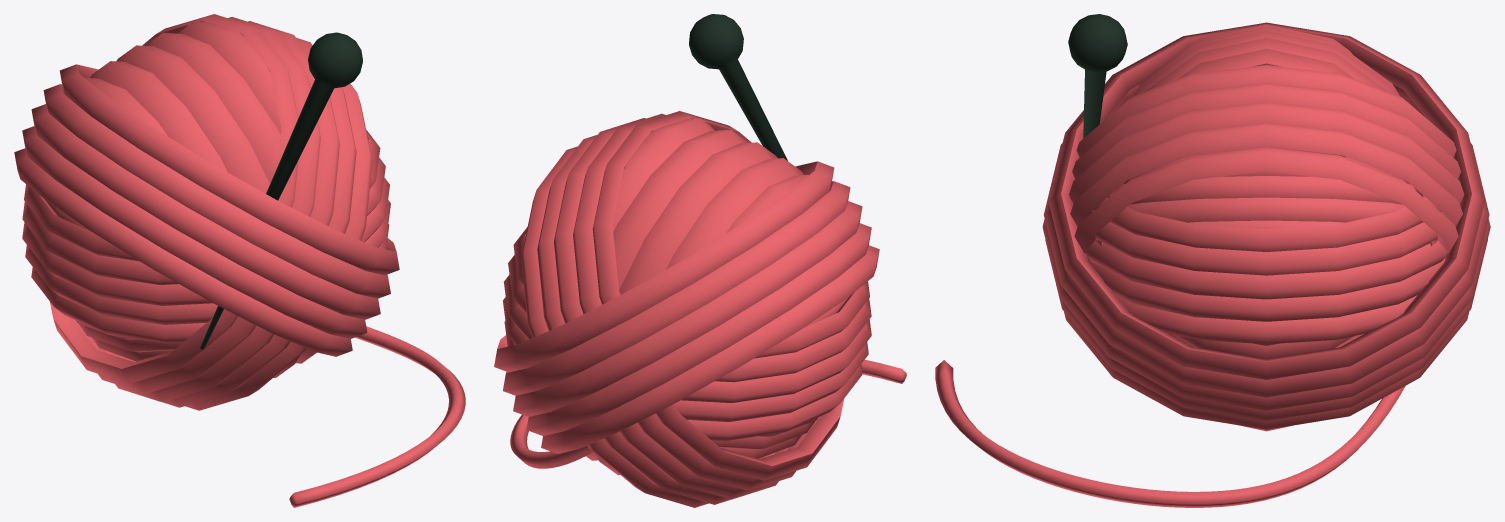
Rendered from Lana.fbx.
3 views of the same model, side by side, from view 1: azimuth 30°, elevation 25°; view 2: azimuth 150°, elevation 25°; view 3: azimuth 270°, elevation 25° (orthographic). The views are drawn at different scales.
Visible parts, largest first — view 1: Giros.002, Giros.001, Giros.003, Giros, Pinhco, Hilillo, Giros.004; view 2: Giros.002, Giros.001, Giros.003, Giros, Pinhco, Hilillo, Giros.004; view 3: Giros.002, Giros.001, Giros, Giros.004, Hilillo, Giros.003, Pinhco, Giros.005.
Part boxes in pixels (box(x1,y1,x2,y2)): Giros.002: box(14, 64, 399, 356); Giros.001: box(49, 14, 372, 410); Giros.003: box(85, 21, 316, 377); Giros: box(22, 130, 390, 343); Pinhco: box(200, 32, 362, 349); Hilillo: box(289, 326, 465, 507); Giros.004: box(75, 320, 182, 361); Giros.002: box(494, 161, 879, 453); Giros.001: box(521, 111, 843, 507); Giros.003: box(586, 118, 808, 475); Giros: box(503, 227, 871, 440); Pinhco: box(689, 14, 787, 160); Hilillo: box(510, 359, 906, 468); Giros.004: box(712, 417, 818, 458); Giros.002: box(1042, 22, 1490, 429); Giros.001: box(1069, 65, 1464, 258); Giros: box(1086, 146, 1447, 344); Giros.004: box(1117, 157, 1416, 228); Hilillo: box(935, 360, 1405, 507); Giros.003: box(1095, 24, 1437, 431); Pinhco: box(1068, 14, 1127, 138); Giros.005: box(1169, 333, 1364, 359).
Bounding box in the file's own units: 55.62 × 60.03 × 71.41.
